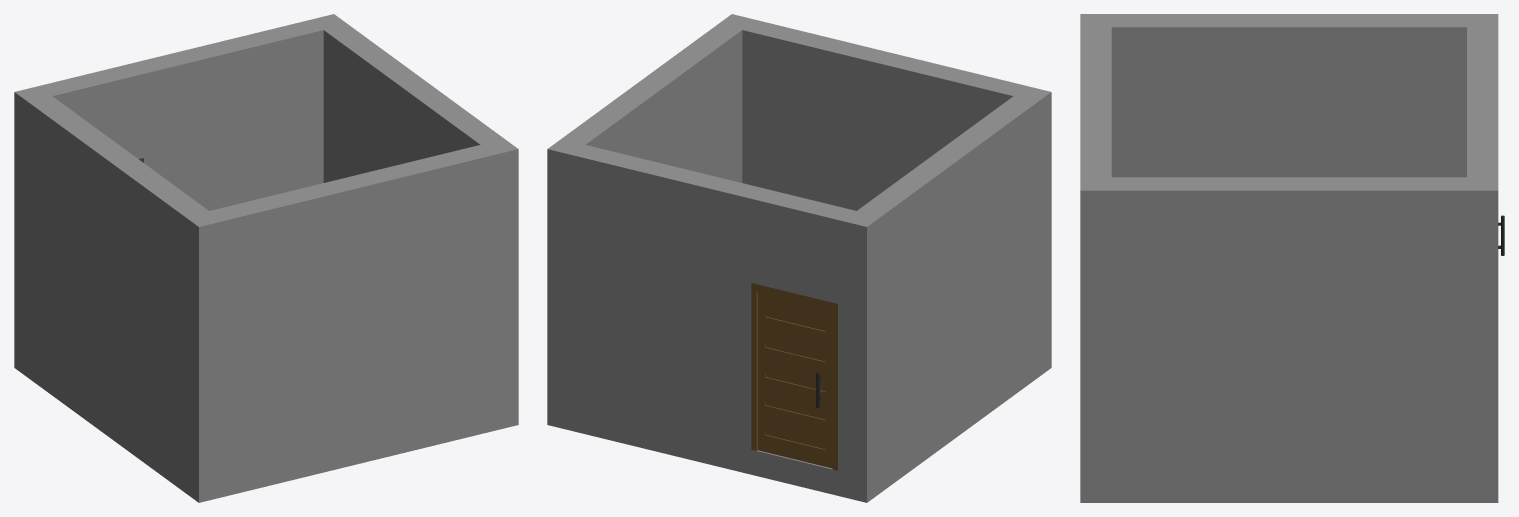
The model's file is MSH_Room_SingleDoor_Front.fbx.
The picture shows the model from 3 angles, left to right: view 1: azimuth 30°, elevation 25°; view 2: azimuth 150°, elevation 25°; view 3: azimuth 270°, elevation 25°; orthographic projection. The views are drawn at different scales.
Visible parts, largest first — view 1: MSH_Room_SingleDoor_Front; view 2: MSH_Room_SingleDoor_Front, MSH_Door_Single, MSH_DoorFrame_Single; view 3: MSH_Room_SingleDoor_Front.
Boxes of the visible parts, box(x1,y1,x2,y2) form: MSH_Room_SingleDoor_Front: box(14, 14, 518, 502); MSH_Room_SingleDoor_Front: box(547, 14, 1051, 502); MSH_Door_Single: box(758, 291, 832, 468); MSH_DoorFrame_Single: box(751, 283, 837, 470); MSH_Room_SingleDoor_Front: box(1080, 14, 1498, 502).
Bounding box in the file's own units: 157 × 130 × 160.
